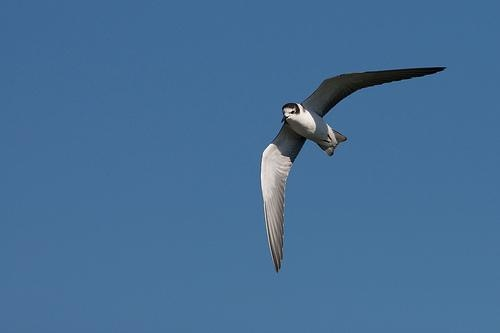bird: (260, 66, 449, 273)
